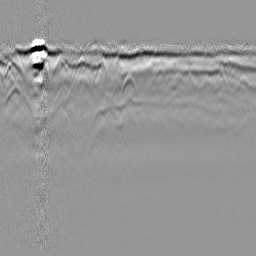cavity: (120, 71, 139, 96)
